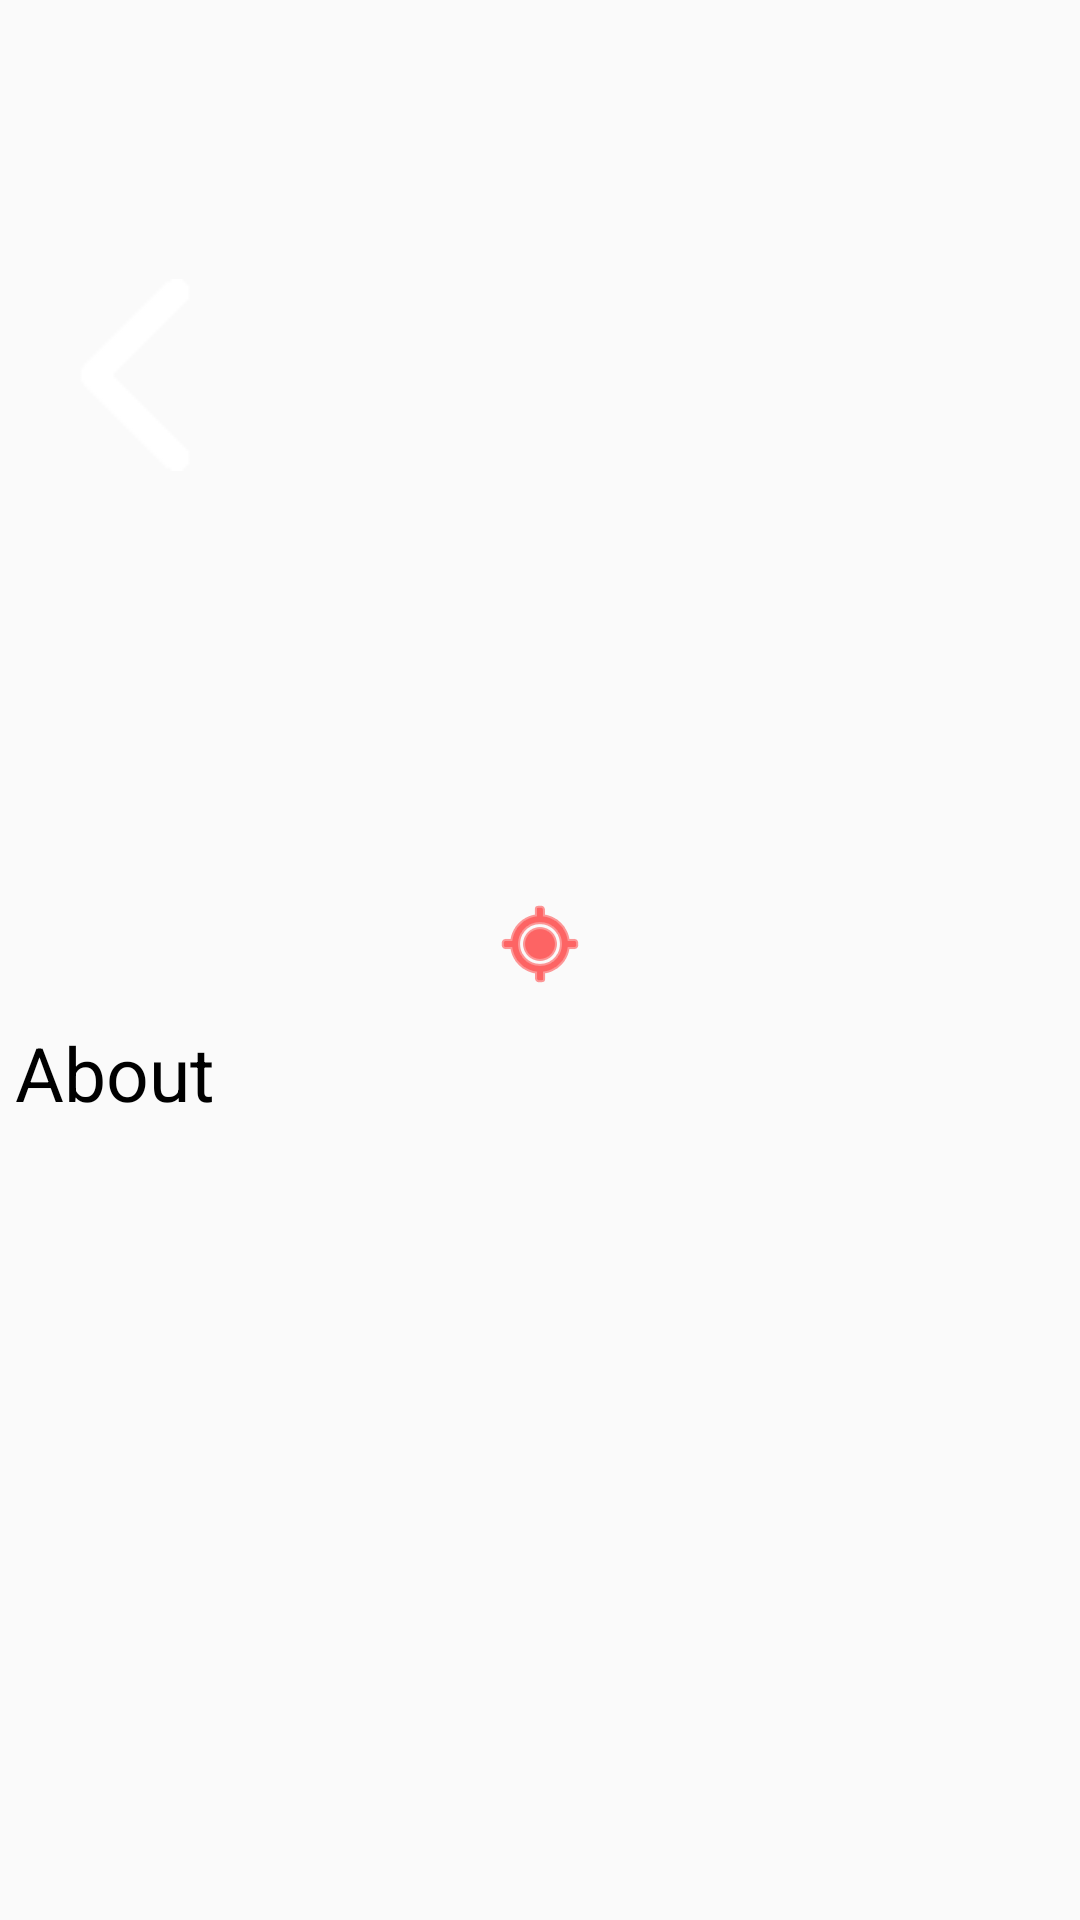

Named icons in this screenshot (1080 × 1920) and their centers, [x,y]:
mylocation: [540,944]
